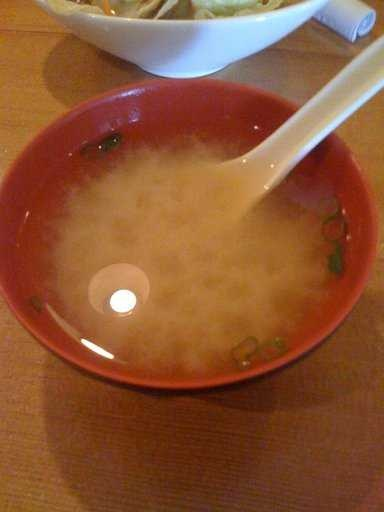soup: (32, 116, 340, 352)
